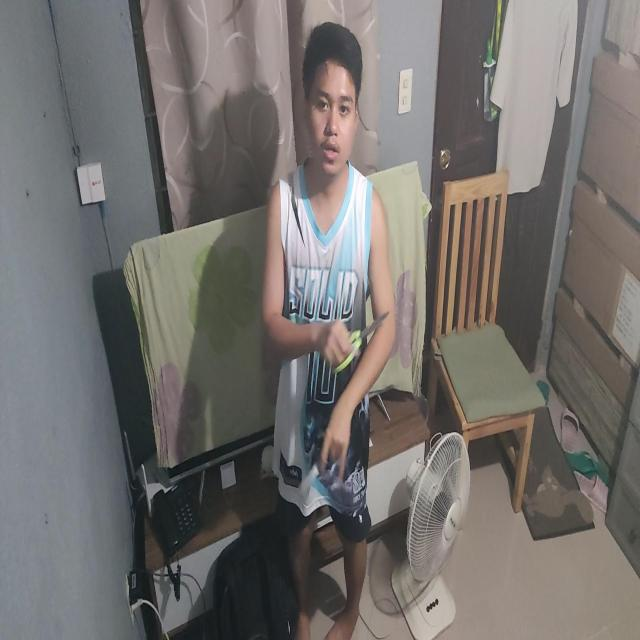scissor: (331, 310, 391, 375)
